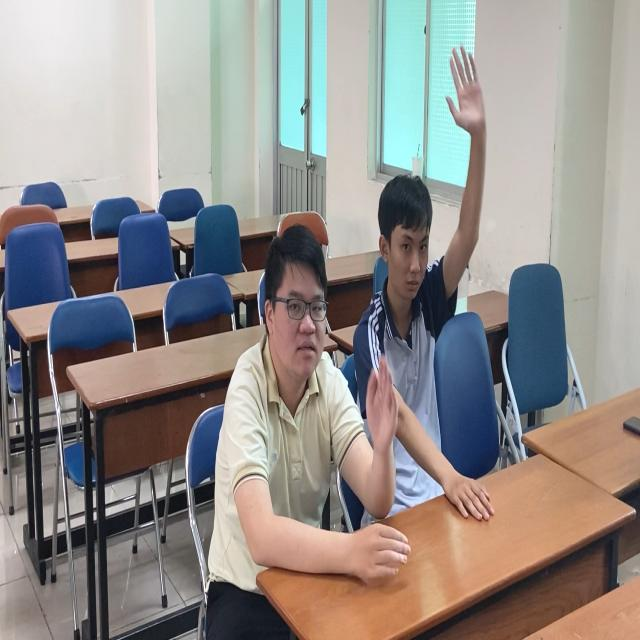raise_hand: (351, 37, 505, 414)
